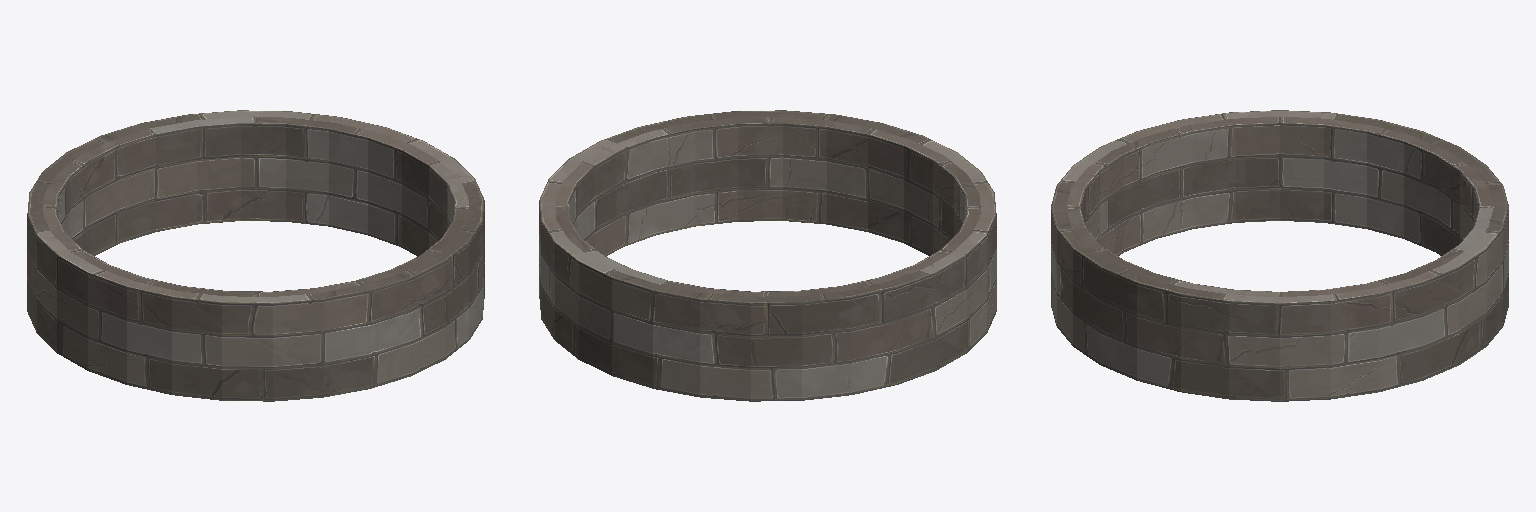
The picture shows the model from 3 angles: view 1: azimuth 30°, elevation 25°; view 2: azimuth 150°, elevation 25°; view 3: azimuth 270°, elevation 25°; orthographic projection.
Parts seen in each view (by area): view 1: tower_base_round_large group1; view 2: tower_base_round_large group1; view 3: tower_base_round_large group1.
Part boxes in pixels (x1,y1,x2,y2): tower_base_round_large group1: (27,110,484,401); tower_base_round_large group1: (539,110,996,401); tower_base_round_large group1: (1051,110,1508,401).
Bounding box in the file's own units: 21.32 × 5.03 × 21.32.
Materials: 1 (1 with a texture image).